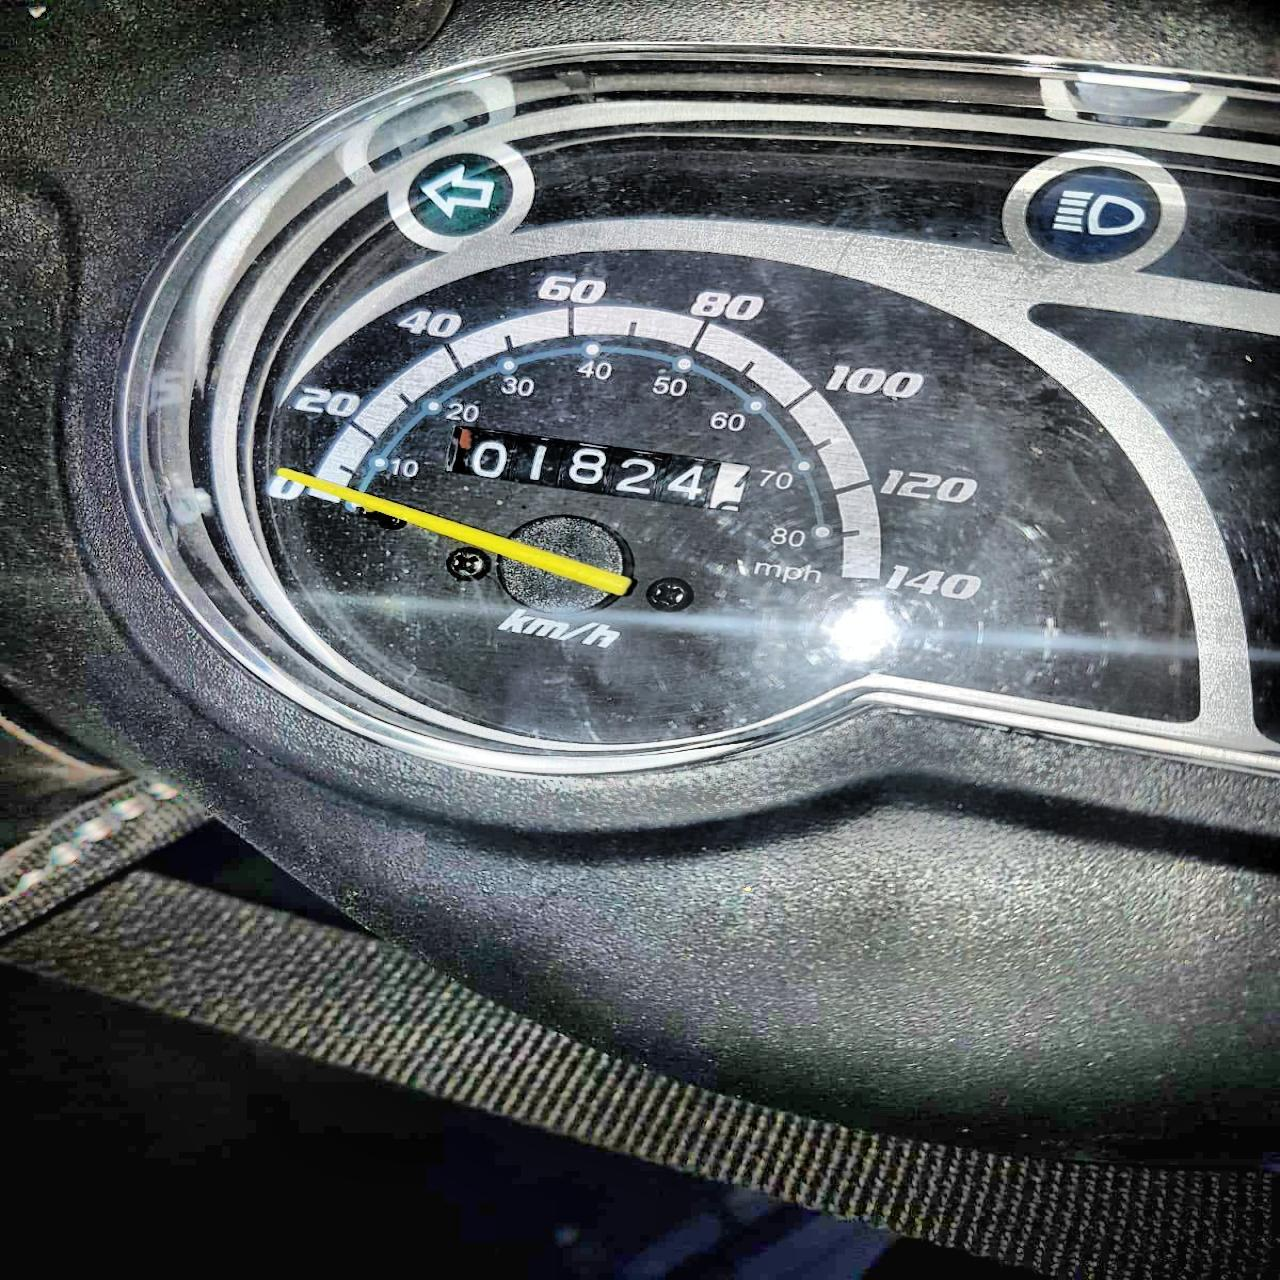0: (468, 437, 509, 479)
1: (523, 442, 550, 481)
2: (613, 455, 655, 496)
4: (663, 461, 710, 502)
7: (716, 457, 754, 490)
8: (565, 447, 607, 485)
odometer: (437, 425, 758, 517)
